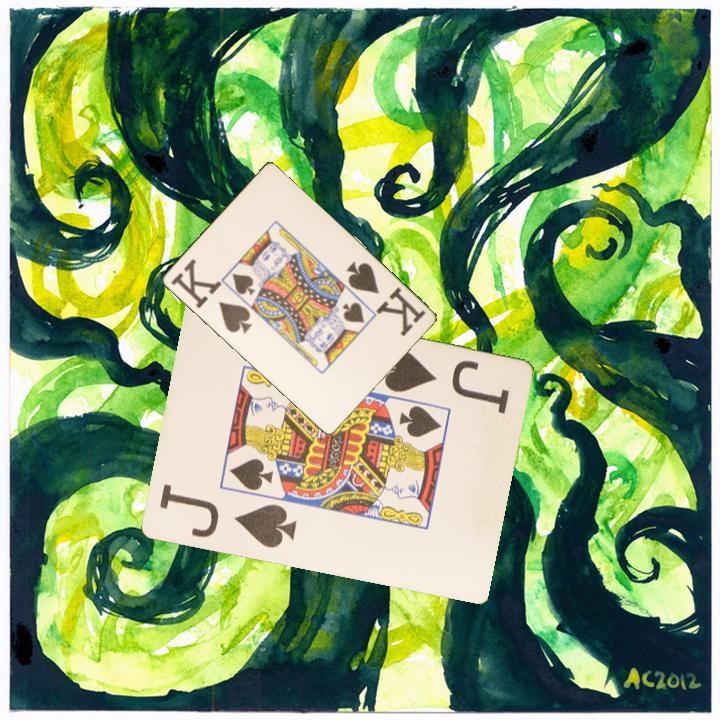Js: (370, 345, 512, 417), (155, 481, 300, 551)
Ks: (167, 255, 255, 337), (342, 257, 428, 339)
